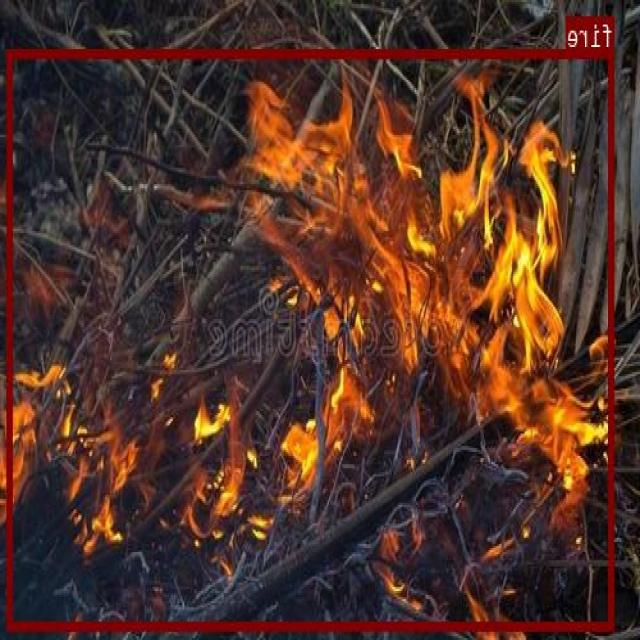fire: (8, 47, 614, 628)
